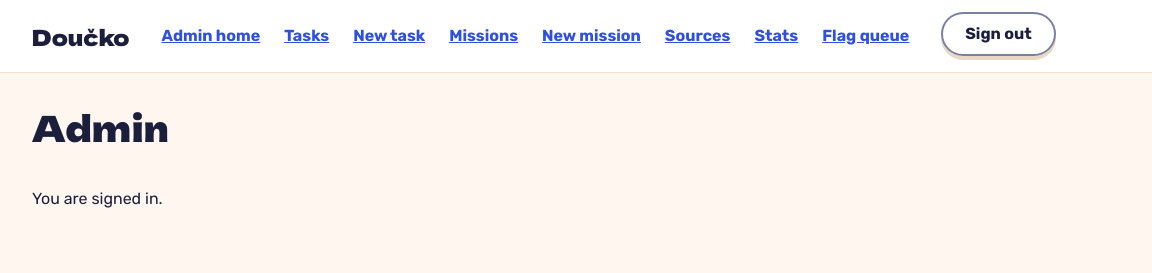
Test: unexpected answers from the backend › a failed sign-out keeps the admin home and says sign-out failed
Click the button "Sign out": (999, 34) [941, 12, 1056, 56]
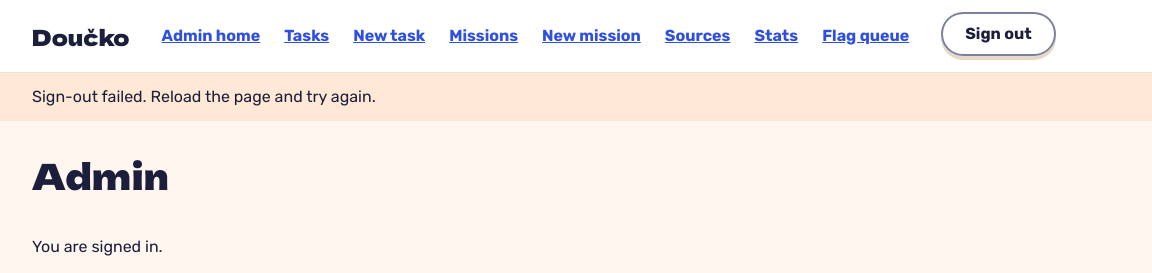
Expected: the heading "Admin" is shown, [32, 148, 169, 200]
Now the message reads "Sign-out failed. Reload the page and try again.", box [32, 87, 376, 106]
